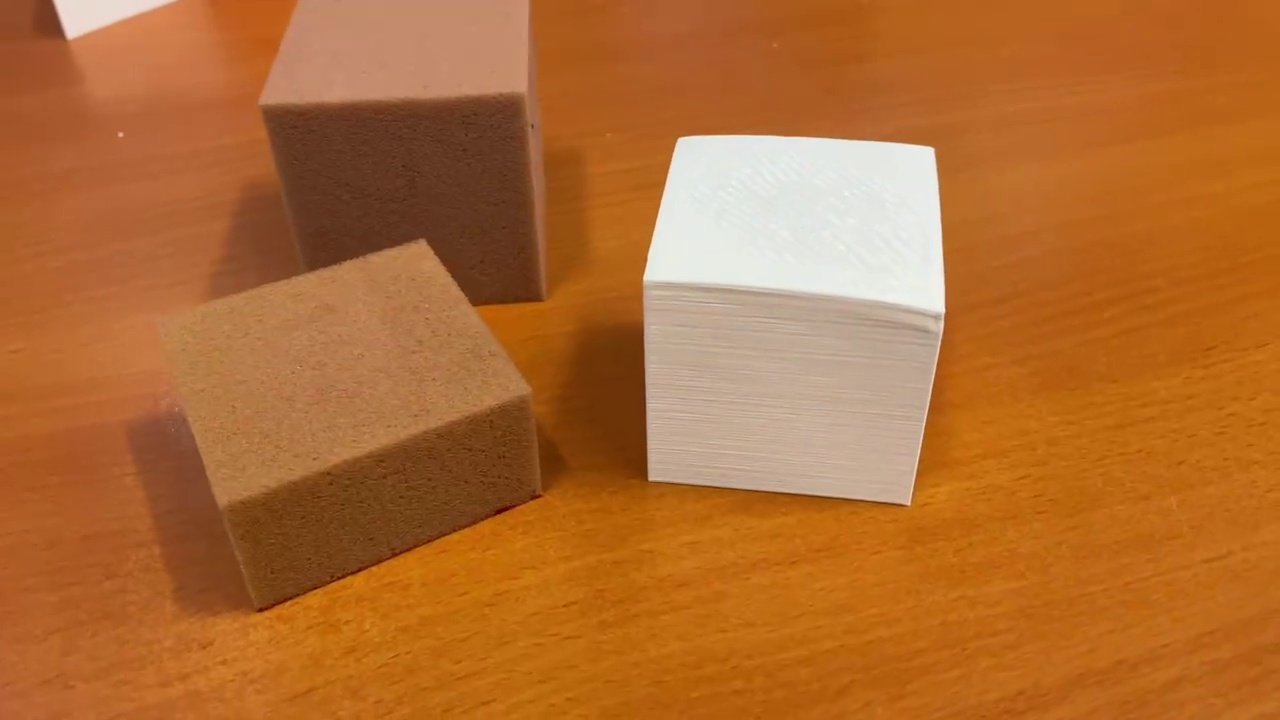Cube: (635, 131, 951, 507), (249, 1, 552, 309)
Cube_short: (154, 233, 548, 617)
